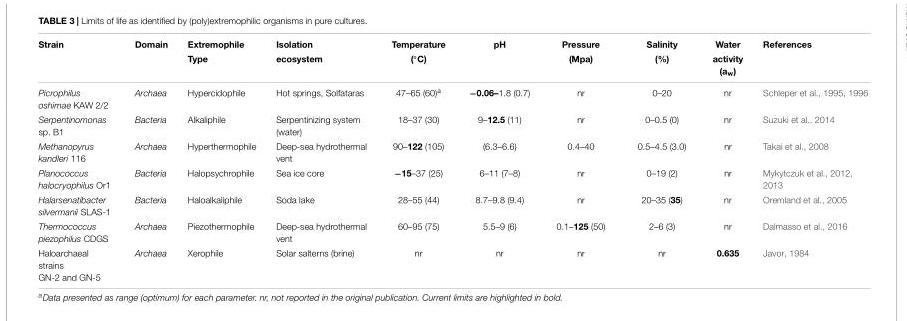table: (38, 37, 868, 281)
table column: (753, 37, 868, 281), (266, 37, 379, 281), (177, 37, 266, 281), (457, 37, 543, 281), (38, 37, 122, 281), (379, 37, 457, 281), (543, 37, 621, 281), (621, 37, 699, 281), (122, 37, 177, 281), (699, 37, 753, 281)
table column header: (38, 37, 868, 80)
table row: (38, 244, 868, 281), (38, 80, 868, 111), (38, 50, 868, 80), (38, 111, 868, 138), (38, 164, 868, 191), (38, 191, 868, 218), (38, 138, 868, 164), (38, 218, 868, 244), (38, 37, 868, 50)
table spanning cell: (753, 37, 868, 80), (266, 37, 379, 80), (177, 37, 266, 80), (457, 37, 543, 80), (38, 37, 122, 80), (379, 37, 457, 80), (543, 37, 621, 80), (621, 37, 699, 80), (122, 37, 177, 80), (699, 37, 753, 80)
